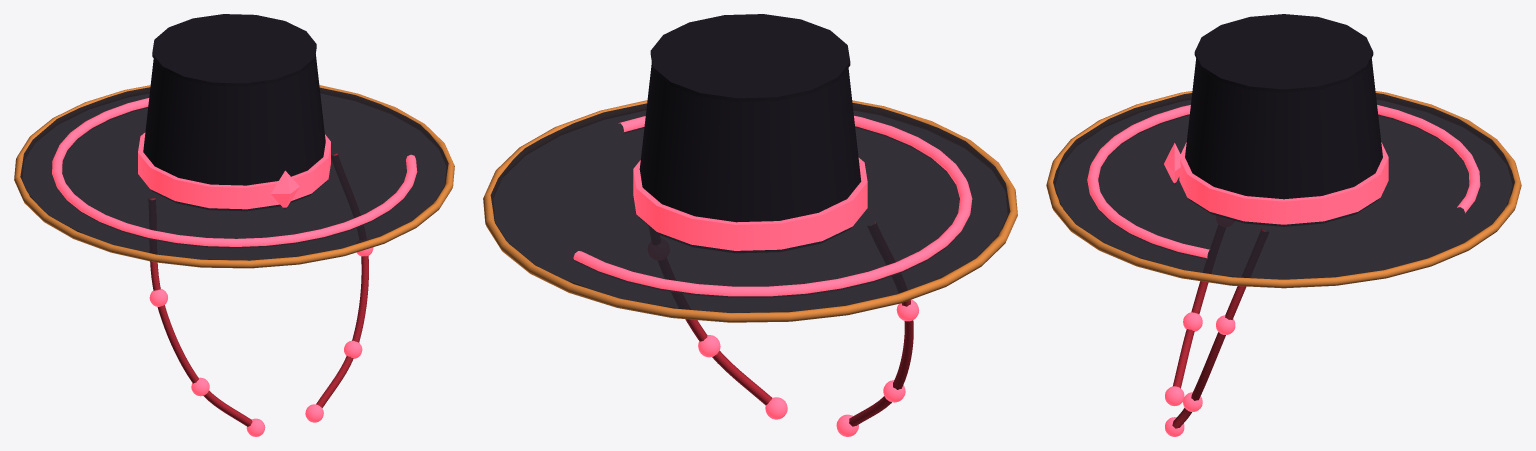
File: hat_eqko3.glb
3 views of the same model, side by side, from view 1: azimuth 30°, elevation 25°; view 2: azimuth 150°, elevation 25°; view 3: azimuth 270°, elevation 25° (orthographic). The views are drawn at different scales.
Size of the model in its own units: 3.78 by 3.24 by 3.78.
